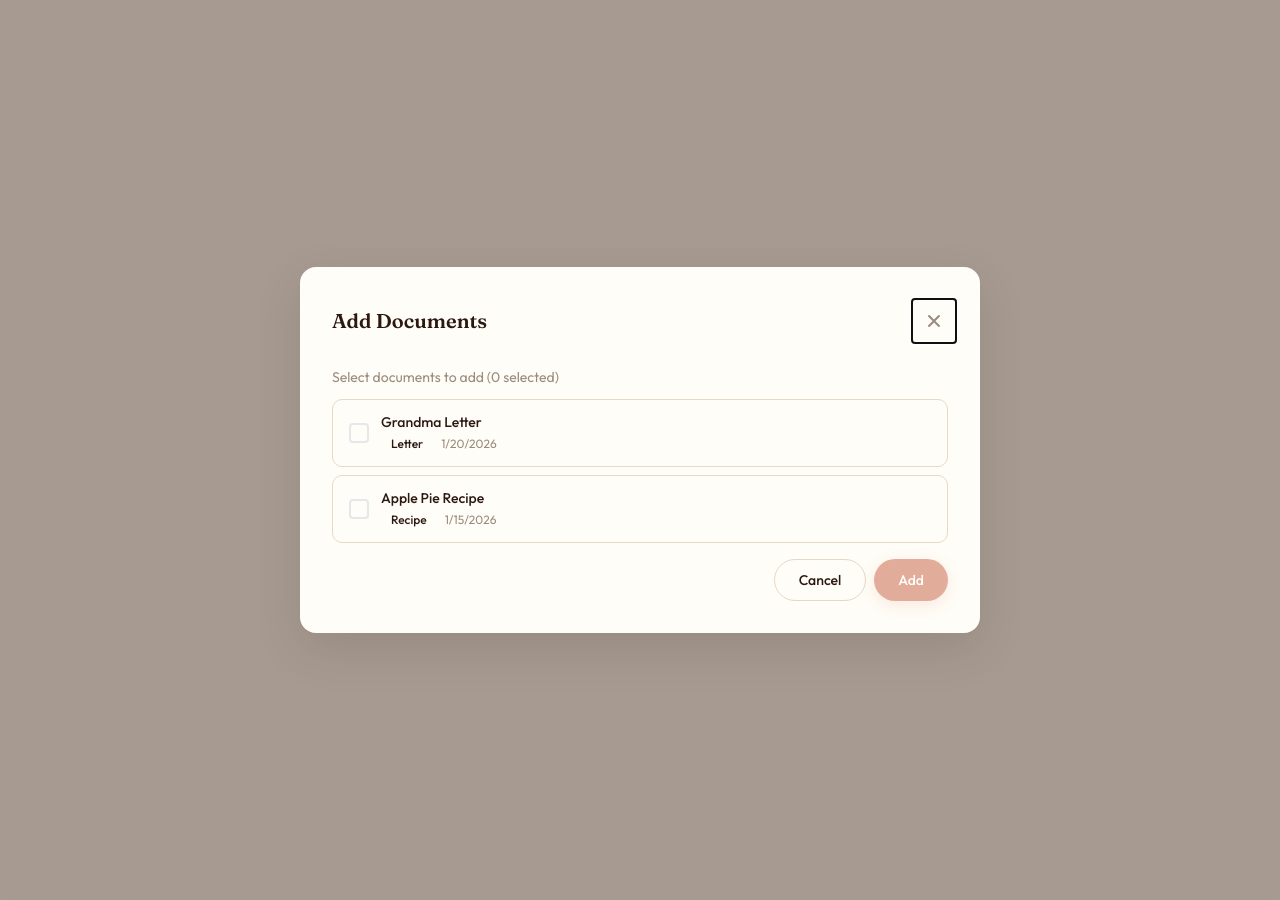
Test: DocumentPickerModal › toggles selection when a scan is clicked
This screenshot has width=1280, height=900.
Click the text "Apple Pie Recipe" at {"x": 433, "y": 498}, box x1=381 y1=489 x2=484 y2=507
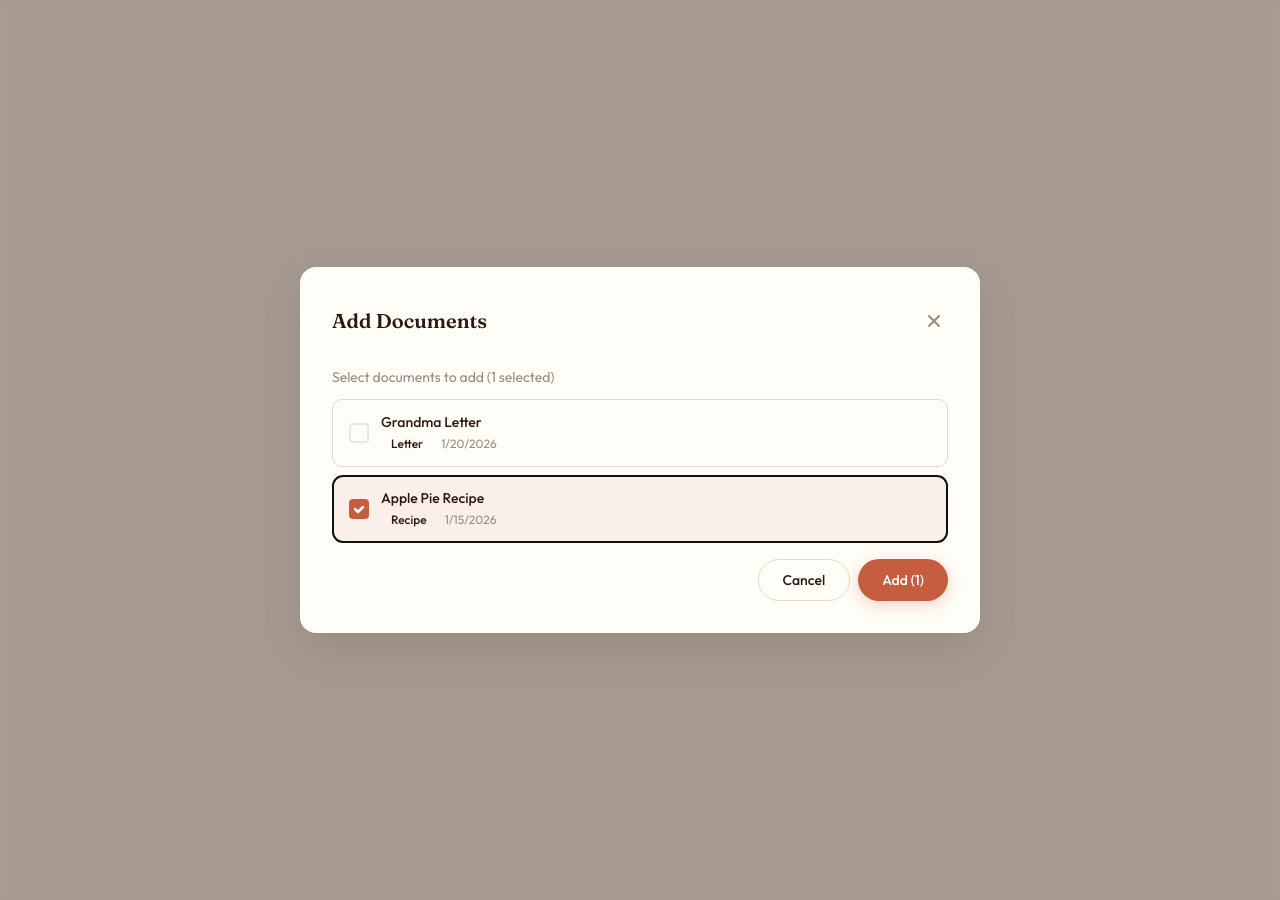
Now the text "Select documents to add (1 selected)" is shown, box x1=332 y1=368 x2=554 y2=386
